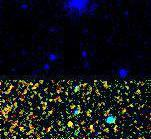star: (53, 114, 83, 139)
